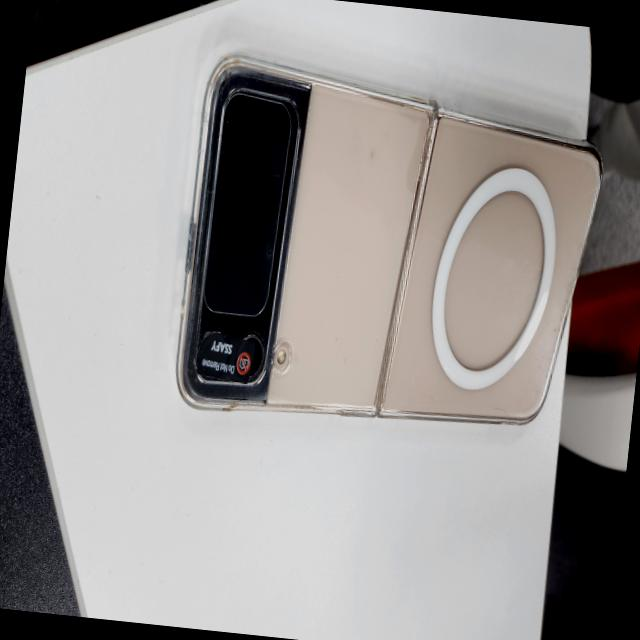phone: (170, 55, 610, 449)
sticker: (194, 328, 256, 385)
